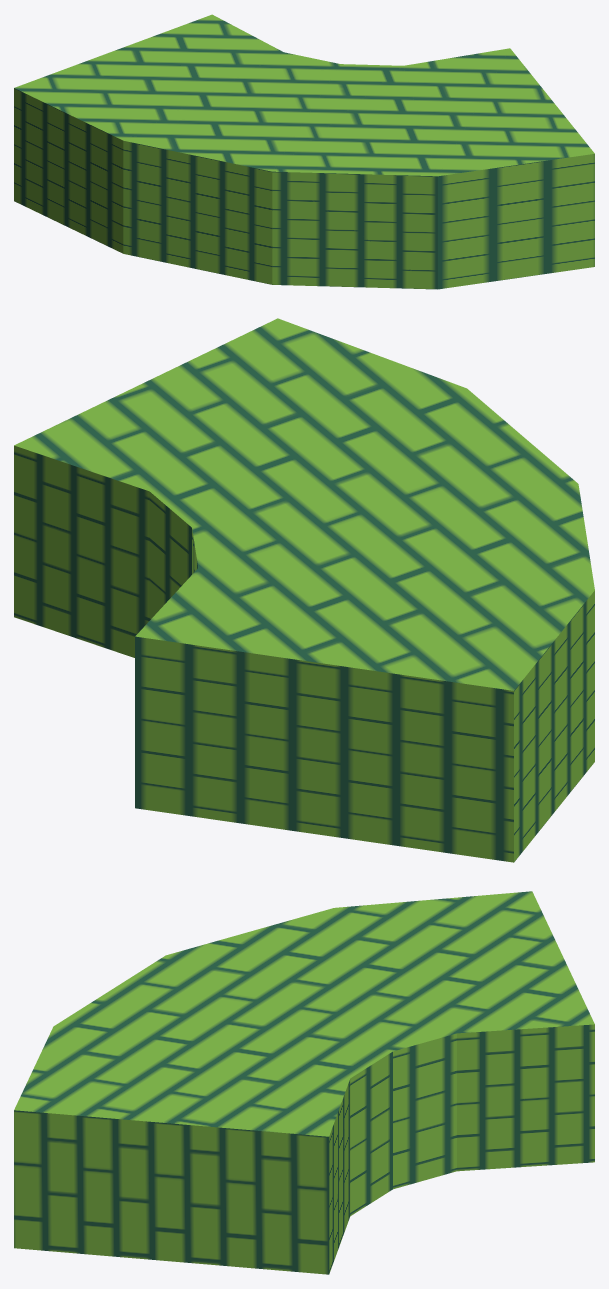
Rendered from greenBrickCorner.glb.
3 renders of one model, top to bottom at view 1: azimuth 30°, elevation 25°; view 2: azimuth 150°, elevation 25°; view 3: azimuth 270°, elevation 25°, orthographic. The views are drawn at different scales.
Visible parts, largest first — view 1: Cylinder; view 2: Cylinder; view 3: Cylinder.
Boxes of the visible parts, bbox=[...] form: Cylinder: bbox=[14, 14, 594, 289]; Cylinder: bbox=[14, 318, 594, 862]; Cylinder: bbox=[14, 891, 594, 1274].
Bounding box in the file's own units: 4.52 × 1.18 × 4.52.
Materials: 1 (1 with a texture image).
